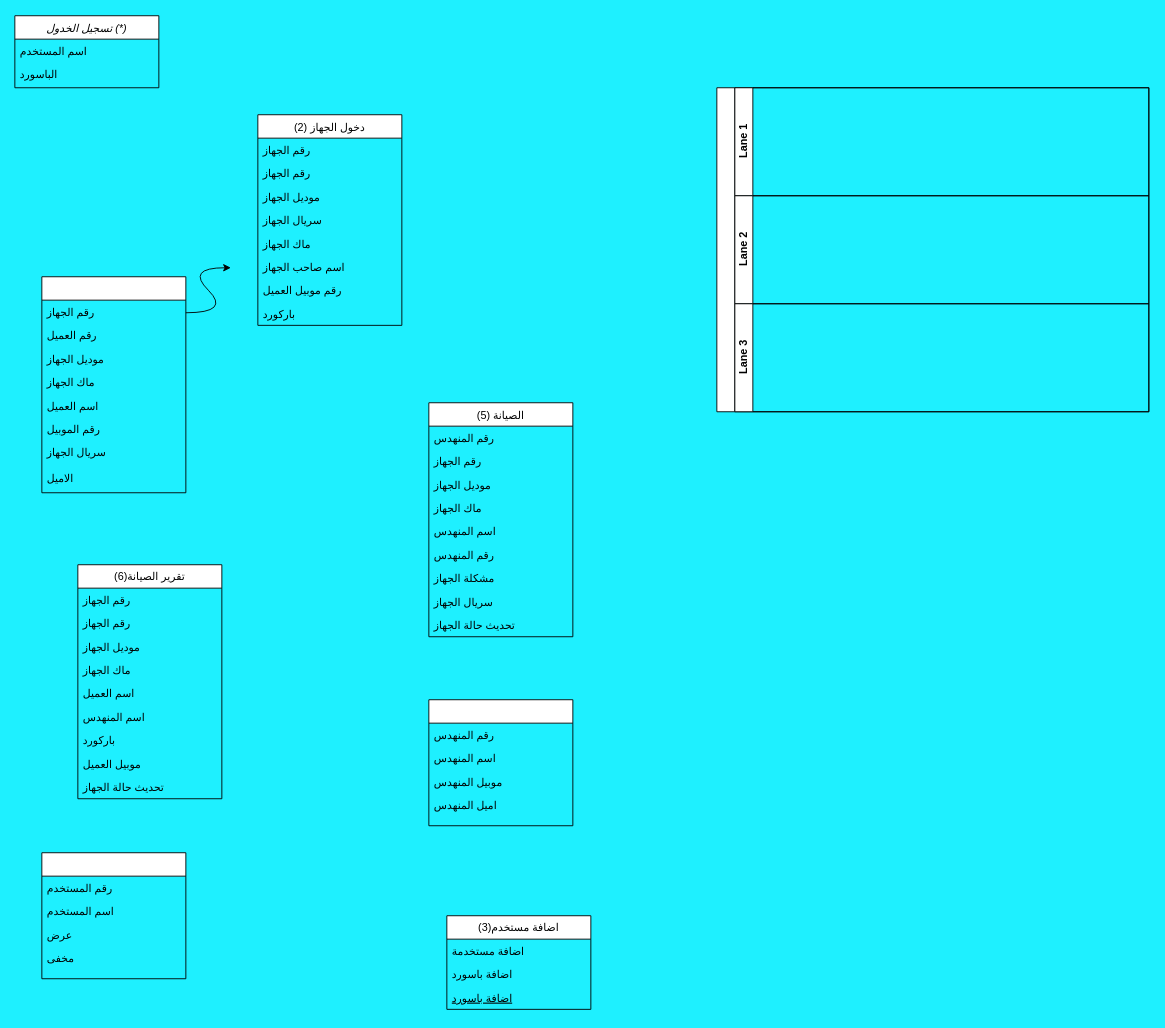
The diagram is 1165 pixels wide and 1028 high, and some of its shapes have lost their labels. Here are the shapes that lost their labels. From the top down, the box of each, then its label:
(716, 87, 1149, 412): Pool
(41, 276, 186, 493): العملاء(4)
(428, 699, 573, 826): المنهدسين (7)
(41, 852, 186, 979): الحماية (8)
